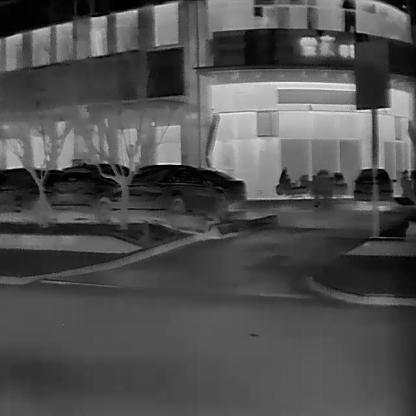car: (121, 162, 220, 222), (50, 161, 135, 220), (0, 165, 56, 210), (200, 166, 247, 202), (354, 166, 390, 210)
